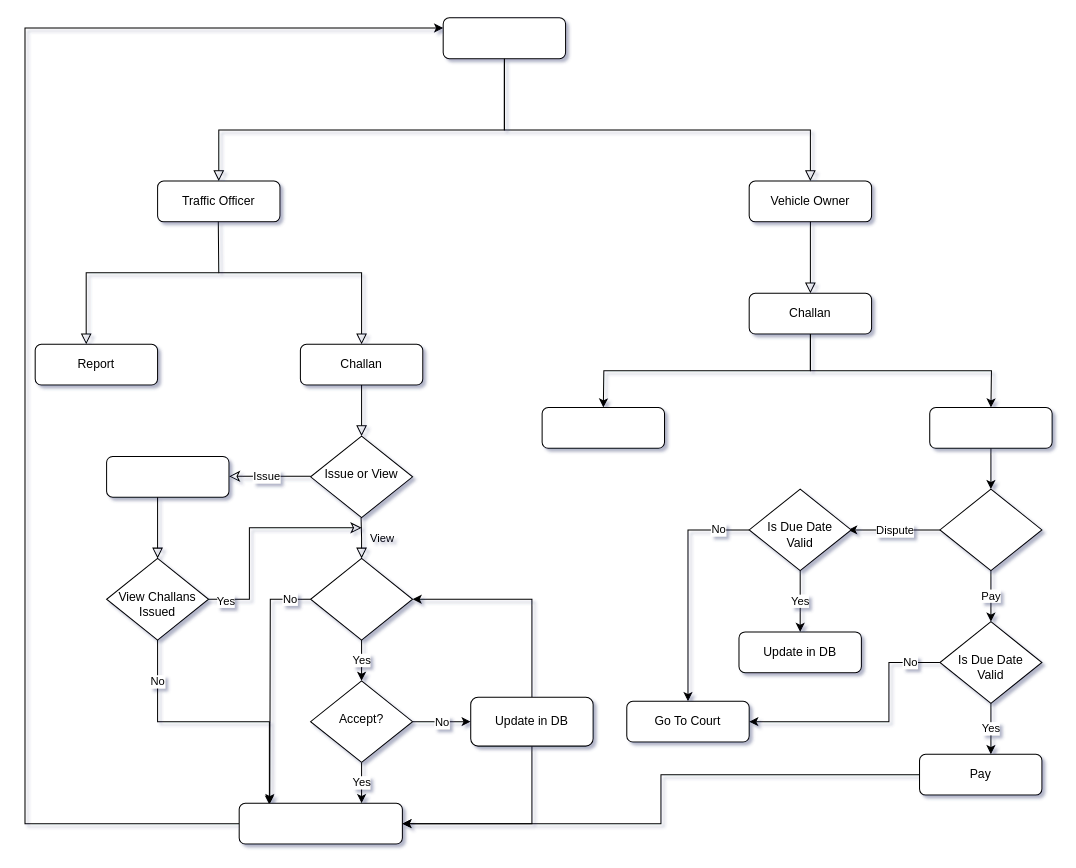
This 1076x868 diagram has some shape labels left out. The centre of each missing label's shape, as x and y in pixels:
"Any Disputed Challans" goes at pixel 361 598.
"Logout" goes at pixel 320 823.
"Make Challan" goes at pixel 167 476.
"Paid Challan" goes at pixel 603 427.
"Pay Or Dispute" goes at pixel 990 529.
"Pending Challan" goes at pixel 990 427.
"Welcome" goes at pixel 504 38.
